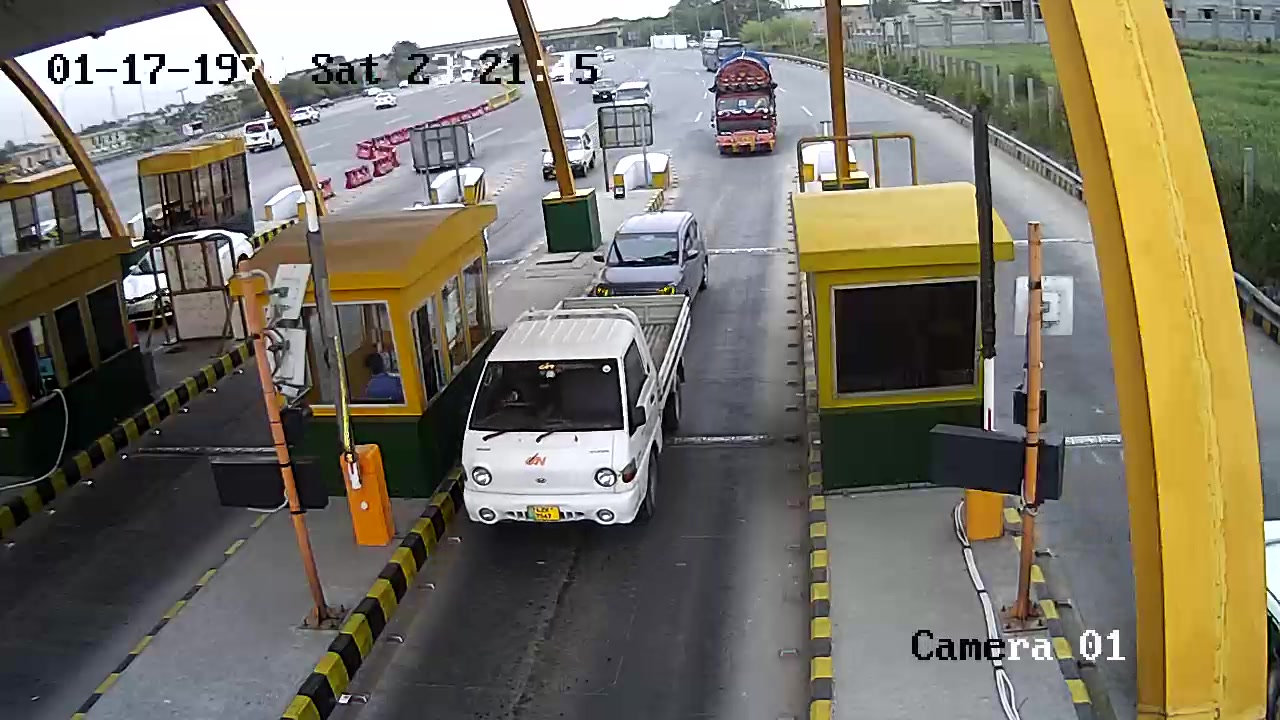F2: (458, 292, 707, 538)
